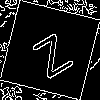Z: (25, 25, 75, 79)
